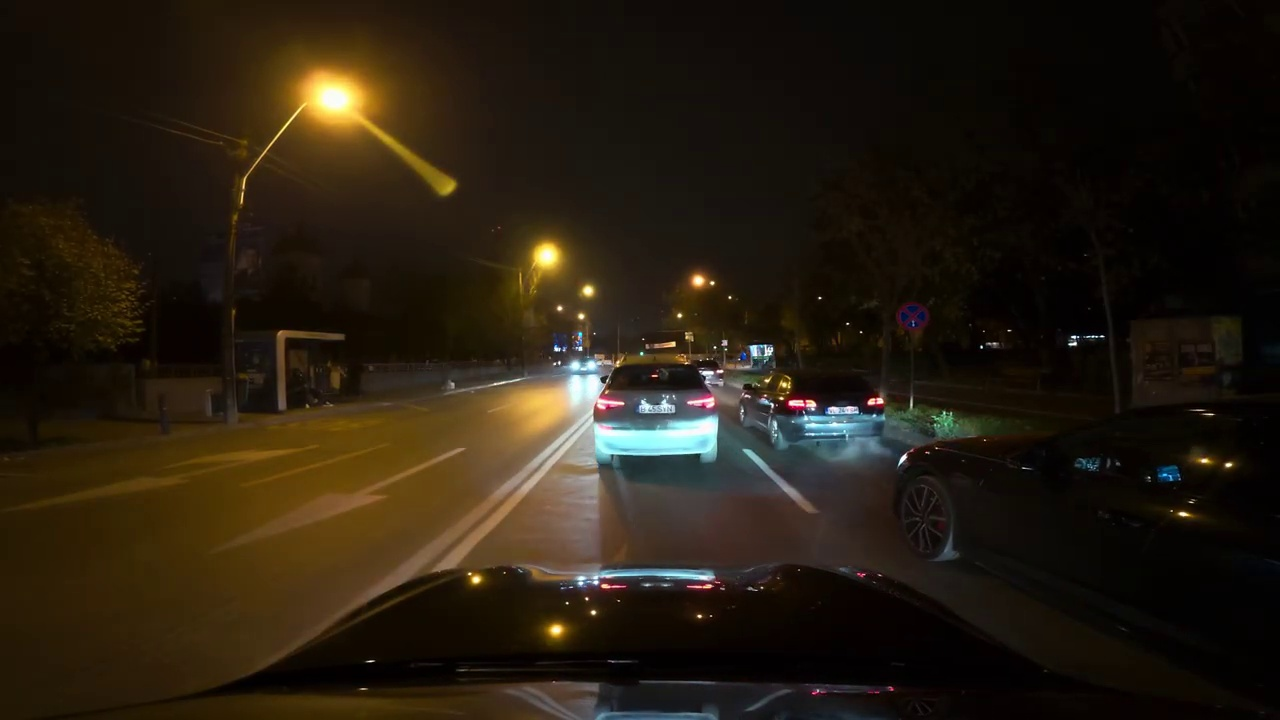acesa: (300, 72, 364, 134), (530, 241, 563, 273), (687, 270, 712, 294)
